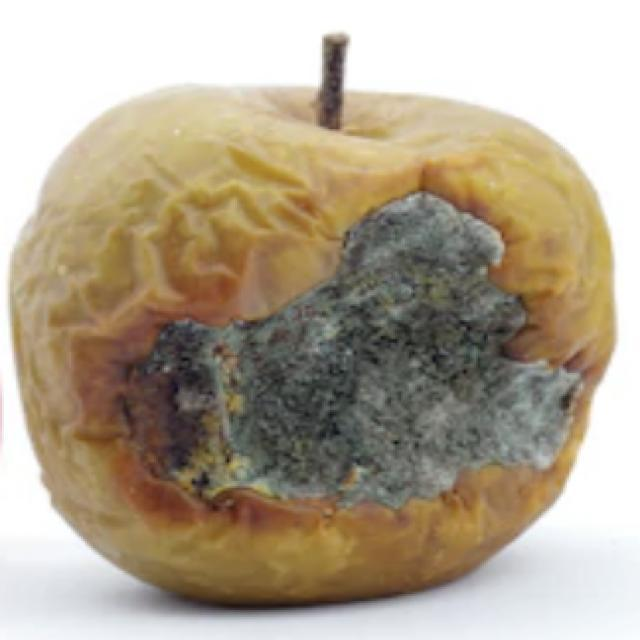Rotten: (62, 72, 615, 608)
